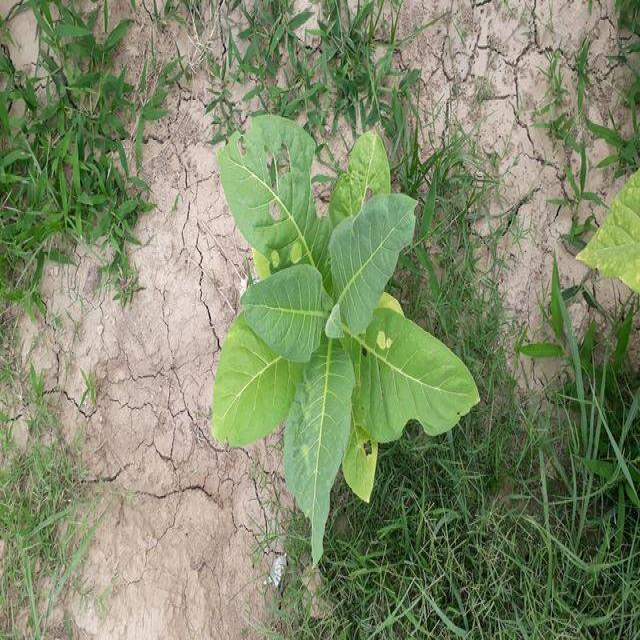crop: (202, 124, 464, 551), (587, 164, 640, 285)
